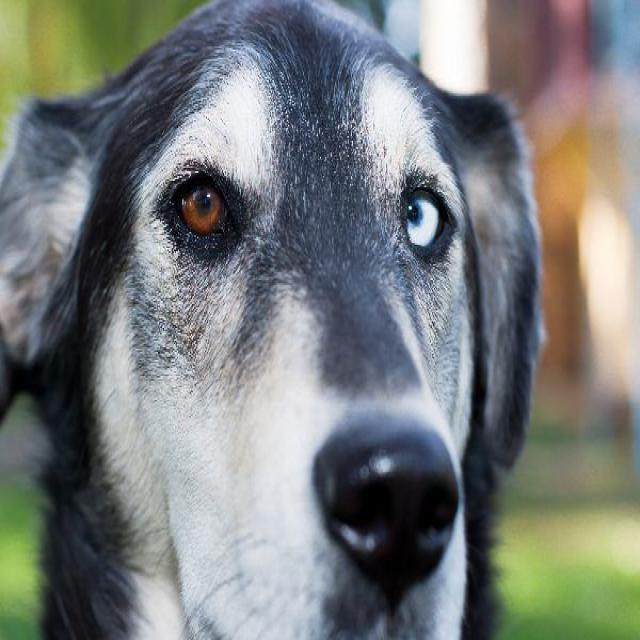eye: (170, 172, 239, 246), (399, 183, 450, 256)
